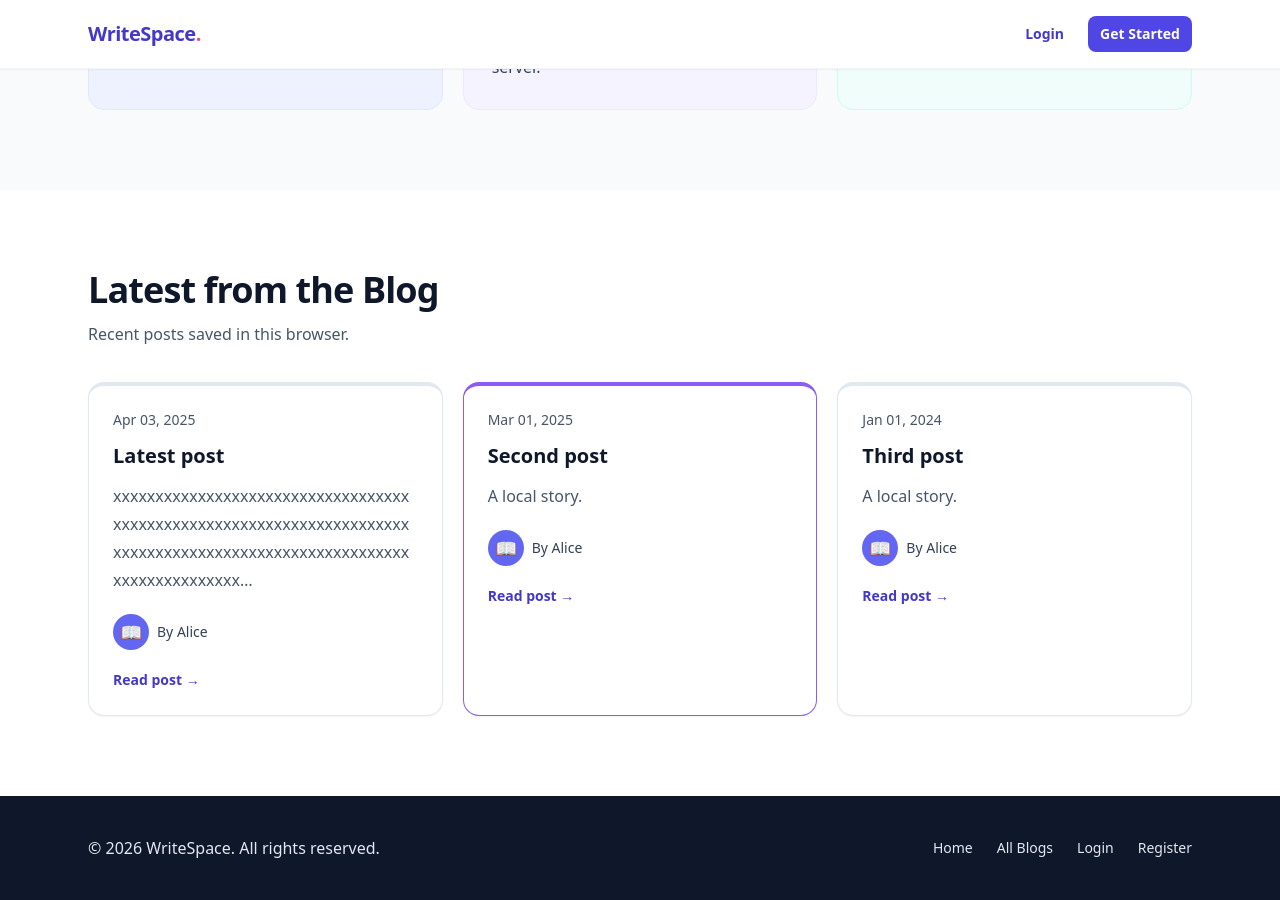
it: public discovery › sorts newest posts, limits to three, shows excerpts and routes a guest to login
(page scrolled)
Expected: the headings read "Latest post", "Second post", "Third post", in this order, top-left (113, 442), bottom-right (224, 469); top-left (488, 442), bottom-right (608, 469); top-left (862, 442), bottom-right (963, 469)
Expected: the text "Apr 03, 2025" is shown, top-left (113, 410), bottom-right (195, 429)
What coordinates should you click on to do the following:
click the link "Latest post"
I would click on:
 (261, 550)
Its box is top-left (113, 410), bottom-right (409, 689).
(page scrolled)
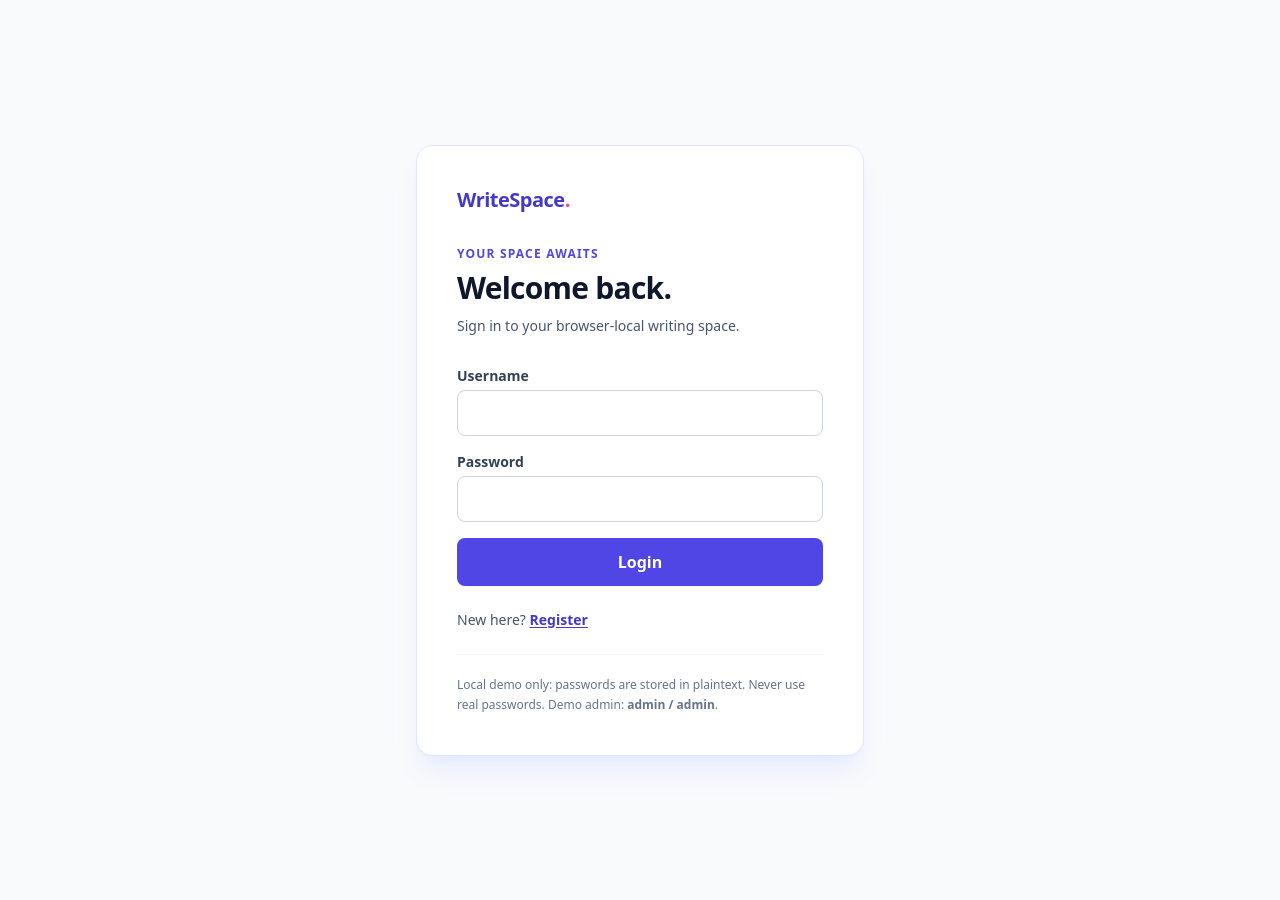
Expected: the heading "Welcome back." is shown, top-left (457, 266), bottom-right (671, 308)
